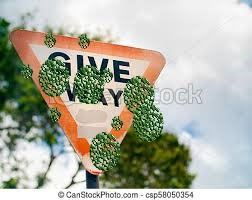giveway: (7, 26, 168, 179), (73, 33, 165, 178), (25, 82, 148, 151), (12, 27, 163, 79)
